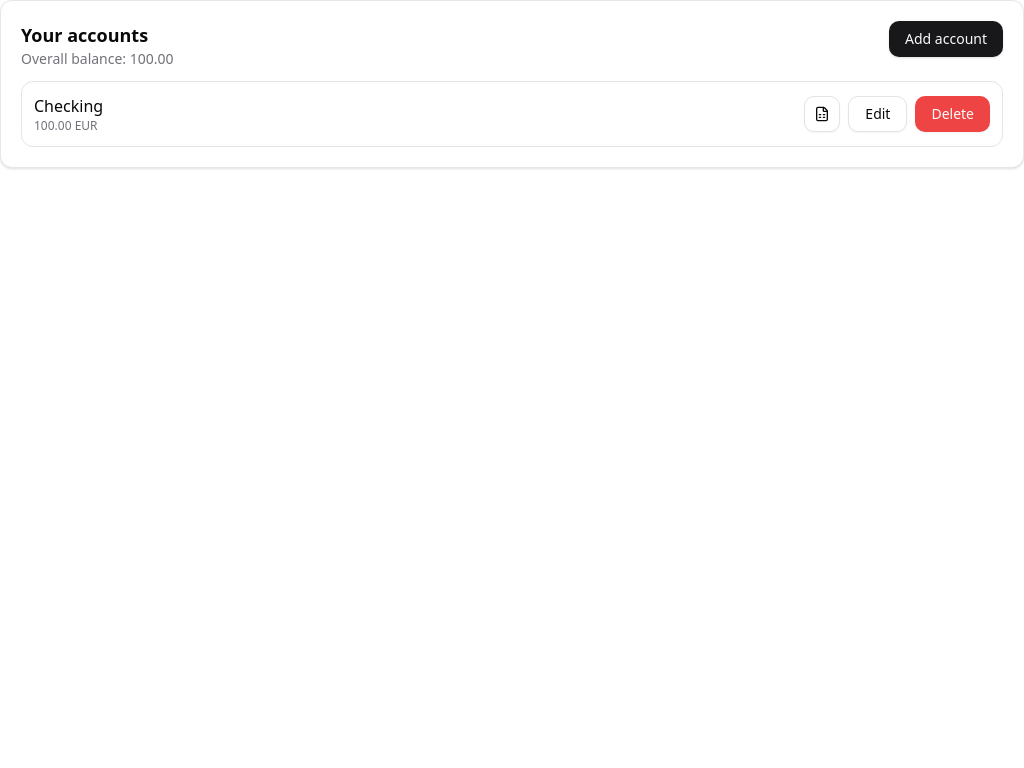
Test case: AccountsPage › opens import settings modal for an account and loads mapping
What coordinates should you click on to do the following:
click the button named "Import settings for Checking"
I would click on:
 (822, 114)
Its box is [804,96,840,132].
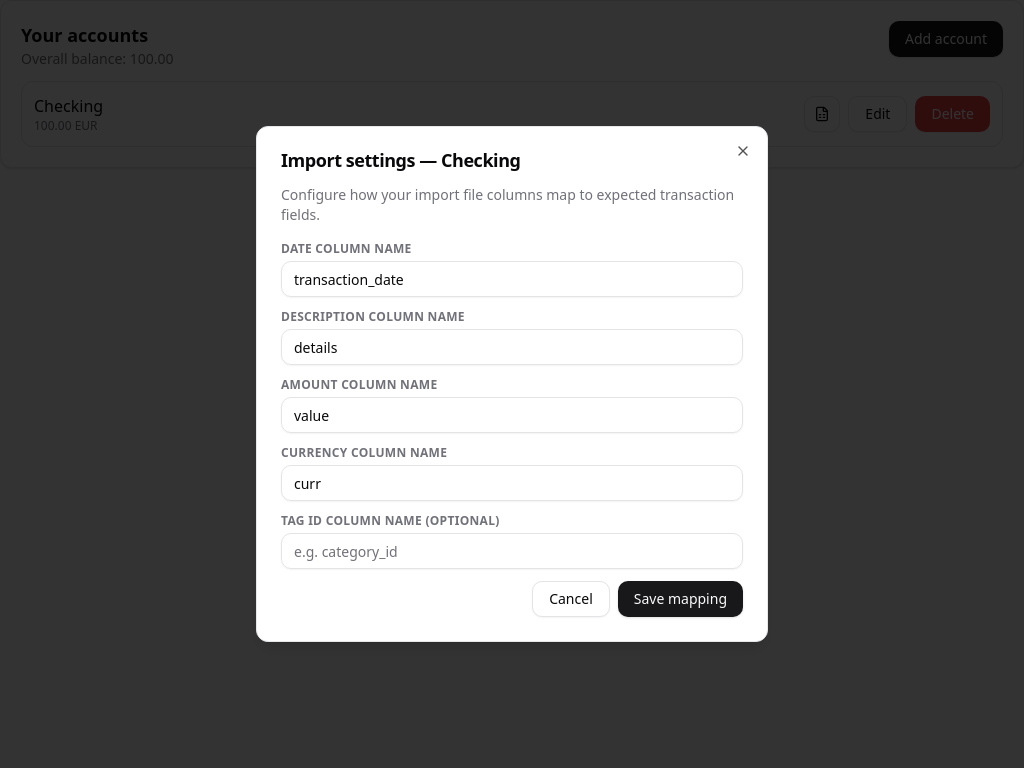
Now the heading "Import settings — Checking" is shown, box [281,148,520,172]
Now the field showing "transaction_date" below "Date column name" is shown, box [281,261,743,297]
Now the field showing "details" below "Description column name" is shown, box [281,329,743,365]
